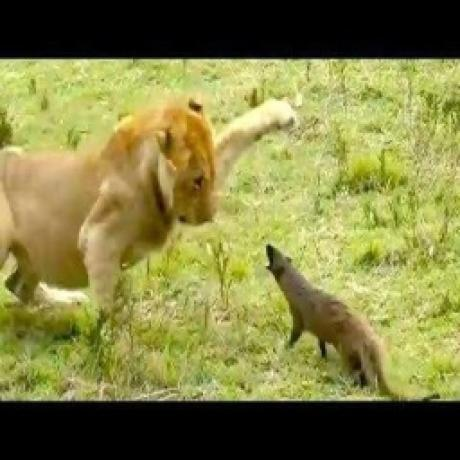Lion: (0, 93, 297, 308)
